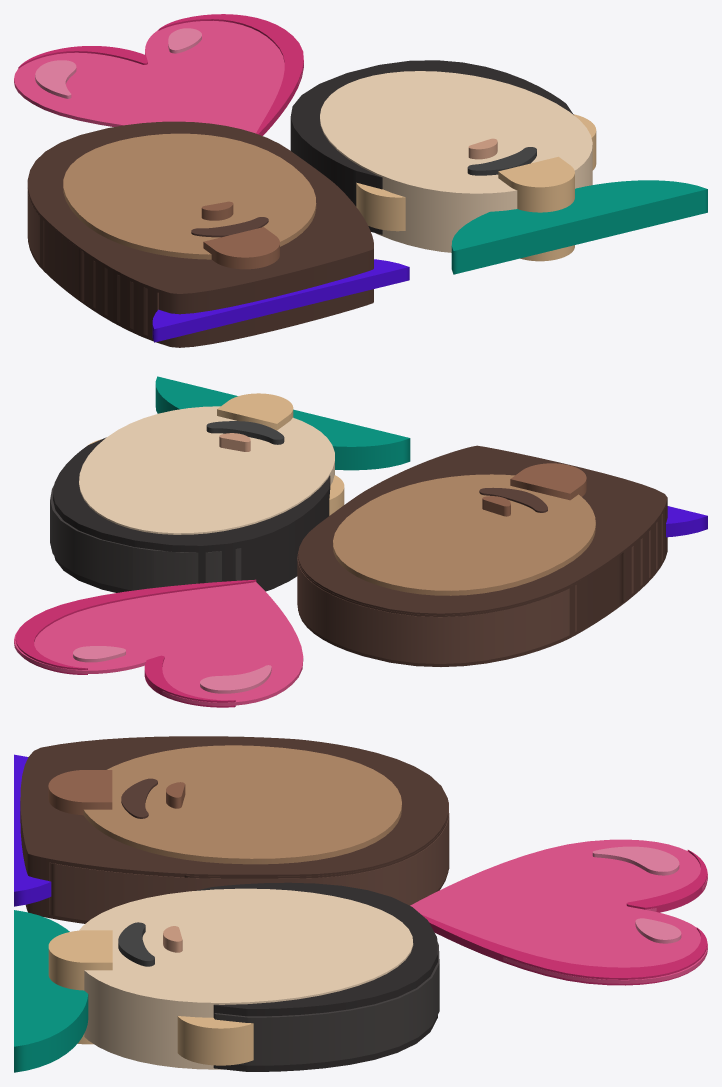
The model's file is emoji_u1f469_1f3fd_200d_2764_200d_1f468_1f3fb.glb.
The picture shows the model from 3 angles, top to bottom: view 1: azimuth 30°, elevation 25°; view 2: azimuth 150°, elevation 25°; view 3: azimuth 270°, elevation 25°; orthographic projection. The views are drawn at different scales.
Visible parts, largest first — view 1: emoji_u1f469_1f3fd_200d_2764_200d_1f468_1f3fb; view 2: emoji_u1f469_1f3fd_200d_2764_200d_1f468_1f3fb; view 3: emoji_u1f469_1f3fd_200d_2764_200d_1f468_1f3fb.
Boxes of the visible parts, x1,y1,x2,y2 form: emoji_u1f469_1f3fd_200d_2764_200d_1f468_1f3fb: (14, 14, 707, 347); emoji_u1f469_1f3fd_200d_2764_200d_1f468_1f3fb: (14, 376, 707, 707); emoji_u1f469_1f3fd_200d_2764_200d_1f468_1f3fb: (14, 736, 707, 1072).
Bounding box in the file's own units: 0.0345 × 0.005 × 0.0339.
